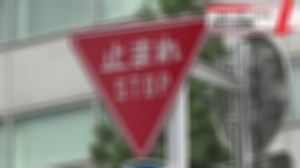Regulatory_sign_triangle: (67, 11, 211, 154)
